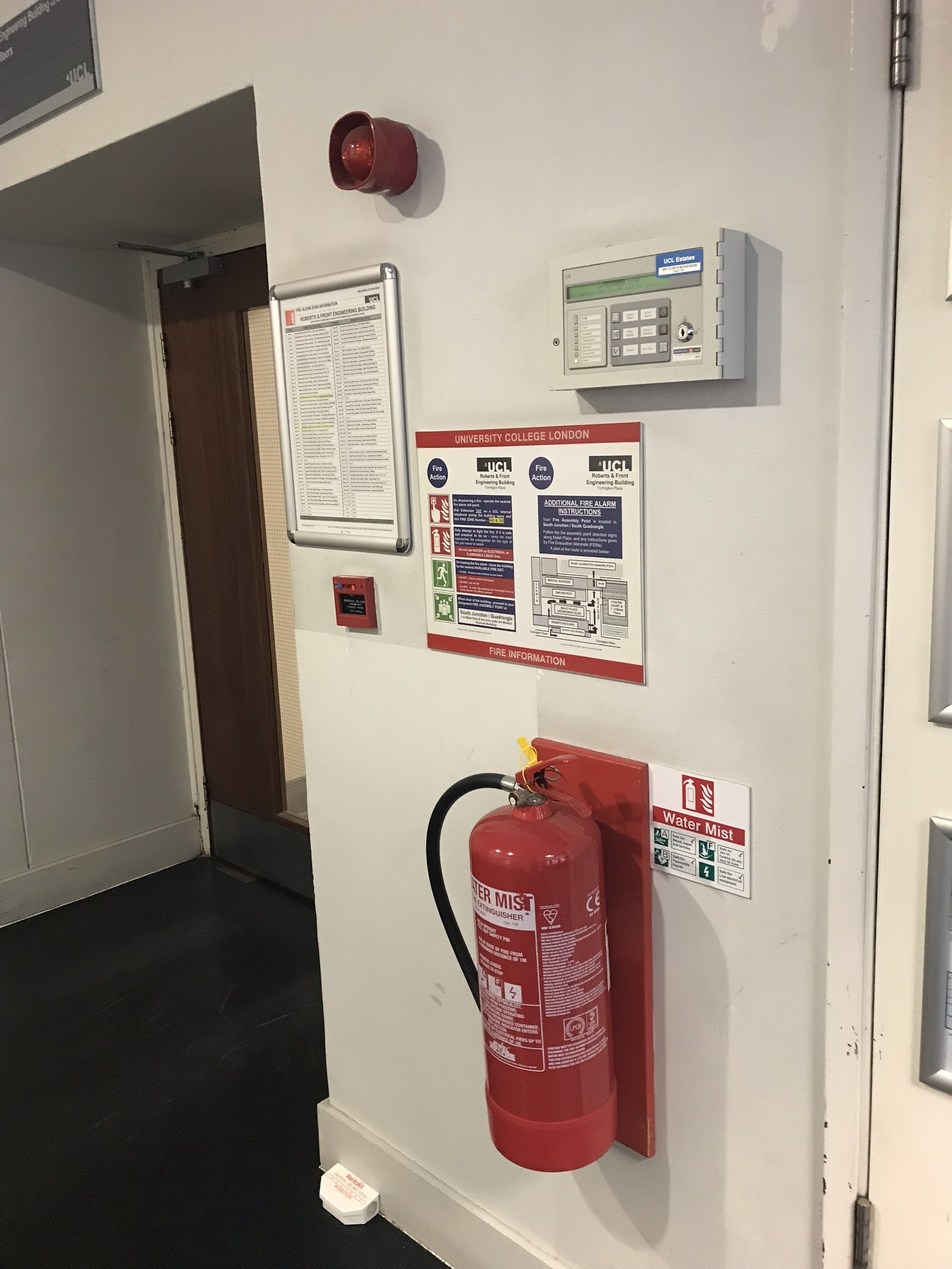fire_extinguisher: (424, 735, 655, 1173)
